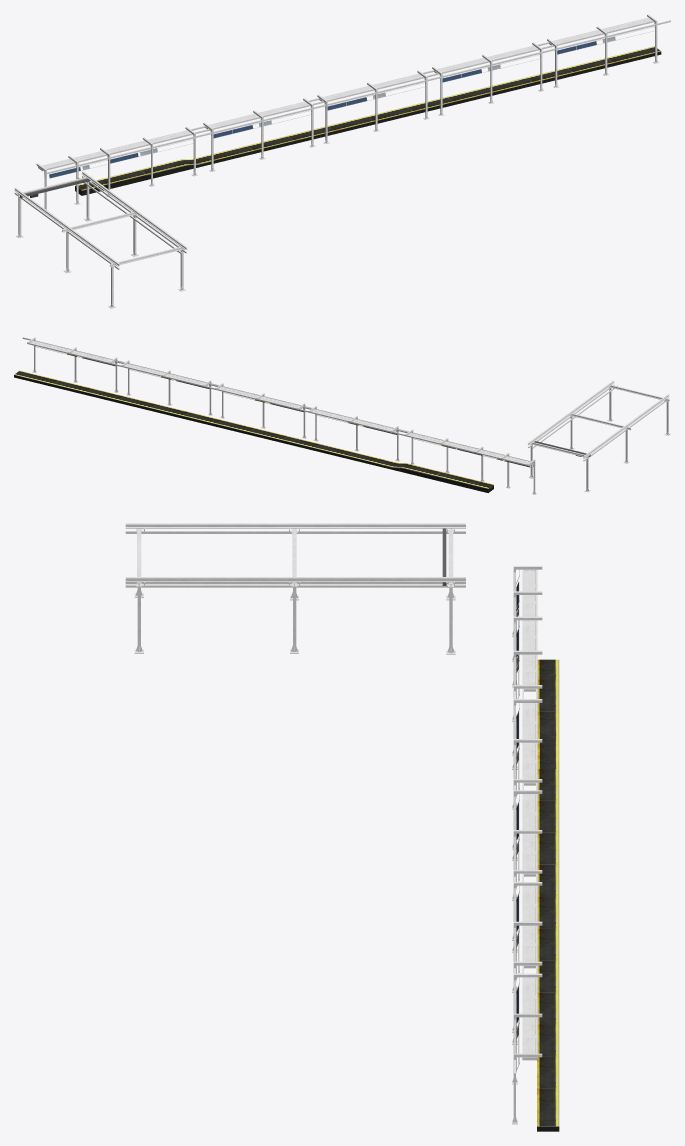
The model's file is LS_zhanli.FBX.
3 renders of one model, top to bottom at view 1: azimuth 30°, elevation 25°; view 2: azimuth 150°, elevation 25°; view 3: azimuth 270°, elevation 25°, orthographic. The views are drawn at different scales.
Visible parts, largest first — view 1: LT_CaoZuoJia551, LT_CaoZuoJia46, LT_CaoZuoJia555, YF_Model_zhanli005, LT_CaoZuoJia556, YF_Model_zhanli017, YF_Model_zhanli007; view 2: LT_CaoZuoJia46, LT_CaoZuoJia551, LT_CaoZuoJia555, LT_CaoZuoJia556, YF_Model_zhanli005, YF_Model_zhanli007, YF_Model_zhanli017, YF_Model_zhanli008, YF_Model_zhanli012, YF_Model_zhanli009, YF_Model_zhanli015, YF_Model_zhanli013 (+5 smaller); view 3: LT_CaoZuoJia46, LT_CaoZuoJia551, YF_Model_zhanli017.
Boxes of the visible parts, <box> form: LT_CaoZuoJia551: <box>66,209,187,269</box>; LT_CaoZuoJia46: <box>14,171,135,228</box>; LT_CaoZuoJia555: <box>62,211,138,273</box>; YF_Model_zhanli005: <box>140,159,188,179</box>; LT_CaoZuoJia556: <box>16,176,91,237</box>; YF_Model_zhanli017: <box>607,46,661,65</box>; YF_Model_zhanli007: <box>100,169,146,188</box>; LT_CaoZuoJia46: <box>528,411,627,461</box>; LT_CaoZuoJia551: <box>571,380,669,427</box>; LT_CaoZuoJia555: <box>569,413,631,463</box>; LT_CaoZuoJia556: <box>529,441,590,492</box>; YF_Model_zhanli005: <box>401,463,440,479</box>; YF_Model_zhanli007: <box>435,471,473,488</box>; YF_Model_zhanli017: <box>14,370,57,386</box>; YF_Model_zhanli008: <box>314,444,351,458</box>; YF_Model_zhanli012: <box>183,412,221,426</box>; YF_Model_zhanli009: <box>281,436,319,450</box>; YF_Model_zhanli015: <box>85,388,123,402</box>; YF_Model_zhanli013: <box>151,404,188,418</box>; LT_CaoZuoJia46: <box>294,523,465,587</box>; LT_CaoZuoJia551: <box>125,523,294,587</box>; YF_Model_zhanli017: <box>537,1088,559,1131</box>.
Bounding box in the file's own units: 4981 × 322 × 1691.
